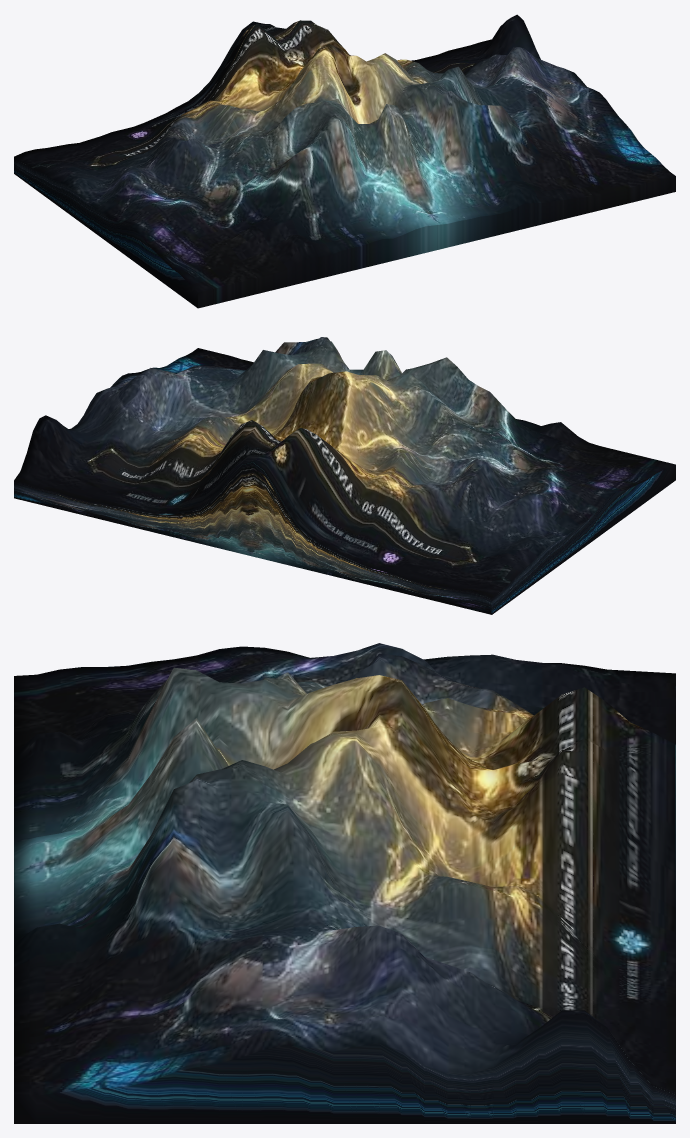
The model's file is RELATIONSHIP_20_Ancestor_Blessing.glb.
3 views of the same model, one above another, from view 1: azimuth 30°, elevation 25°; view 2: azimuth 150°, elevation 25°; view 3: azimuth 270°, elevation 25° (orthographic). The views are drawn at different scales.
Visible parts, largest first — view 1: RELATIONSHIP_20_Ancestor_Blessing; view 2: RELATIONSHIP_20_Ancestor_Blessing; view 3: RELATIONSHIP_20_Ancestor_Blessing.
Boxes of the visible parts, <box> form: RELATIONSHIP_20_Ancestor_Blessing: <box>14,14,675,308</box>; RELATIONSHIP_20_Ancestor_Blessing: <box>14,337,675,614</box>; RELATIONSHIP_20_Ancestor_Blessing: <box>14,643,675,1123</box>.
Bounding box in the file's own units: 2 × 0.51 × 1.33.
1 material, 1 textured.
